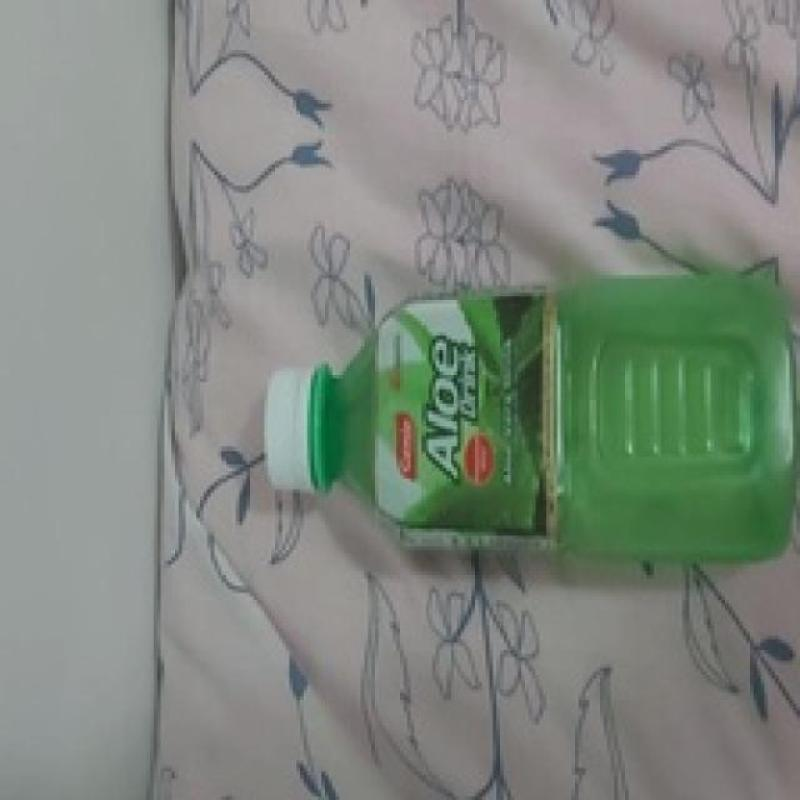botella: (264, 275, 800, 563)
